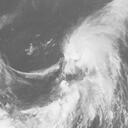cyclone: (57, 33, 112, 105)
